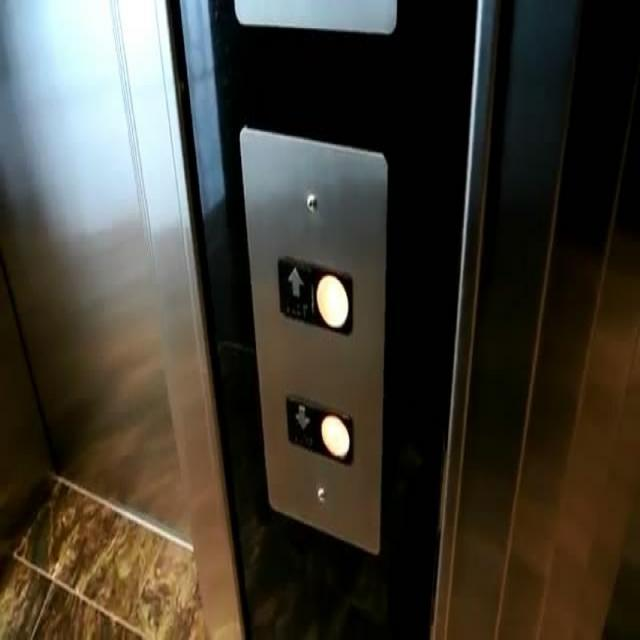down: (283, 387, 355, 469)
up: (274, 248, 355, 340)
